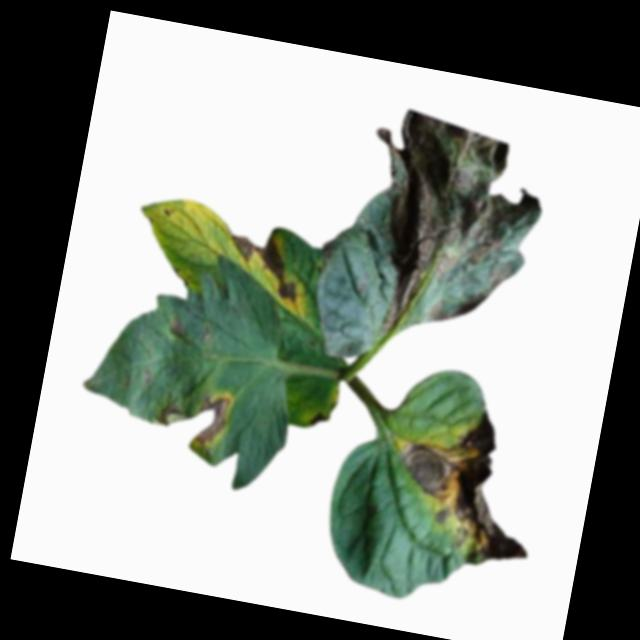Early_blight: (341, 103, 556, 357), (380, 395, 553, 577), (220, 221, 309, 303), (152, 379, 234, 451), (164, 318, 188, 344), (319, 239, 334, 266), (305, 411, 330, 427)
